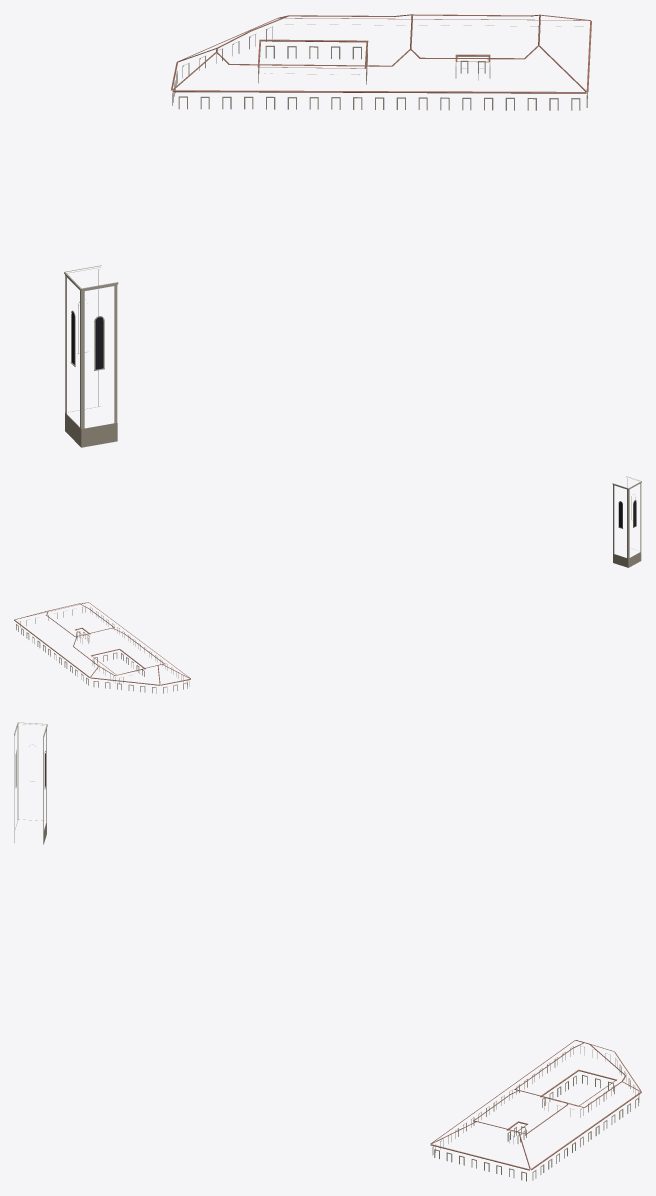
3 views of the same model, one above another, from view 1: azimuth 30°, elevation 25°; view 2: azimuth 150°, elevation 25°; view 3: azimuth 270°, elevation 25° (orthographic). The views are drawn at different scales.
Visible parts, largest first — view 1: detail; view 2: detail; view 3: detail.
Boxes of the visible parts, x1,y1,x2,y2 form: detail: (64,14,591,447); detail: (14,476,641,693); detail: (14,722,641,1181).
Bounding box in the file's own units: 185 × 47.67 × 166.
